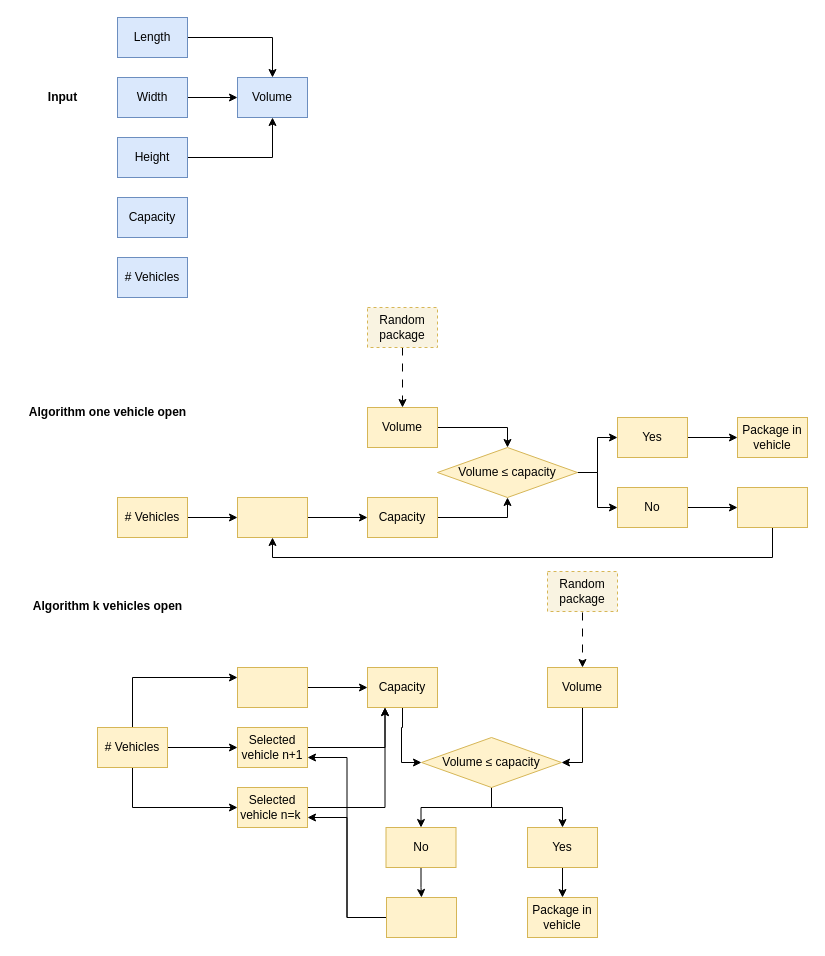
The diagram is 825 pixels wide and 956 high, and some of its shapes have lost their labels. Each missing label, with the centre of its shape:
"Close current, open n+1" goes at point (421, 917).
"Close current, open new" goes at point (772, 507).
"Selected vehicle" goes at point (272, 517).
"Selected vehicle n" goes at point (272, 687).
